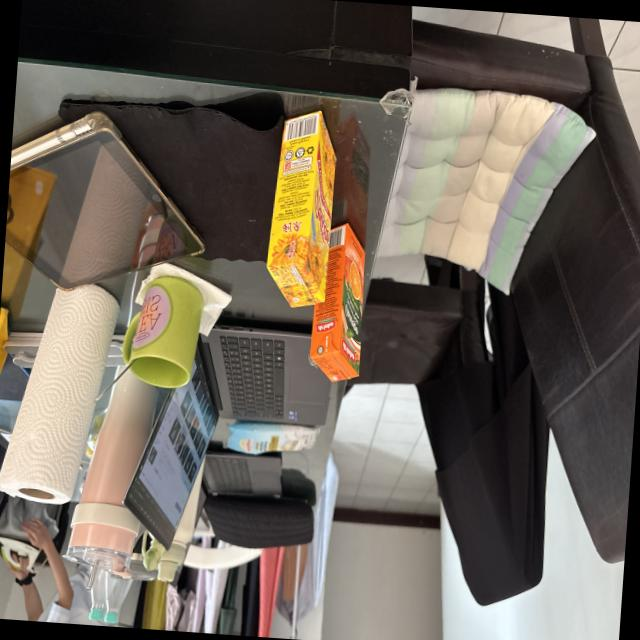drink_carton: (260, 101, 344, 313), (303, 214, 374, 394)
